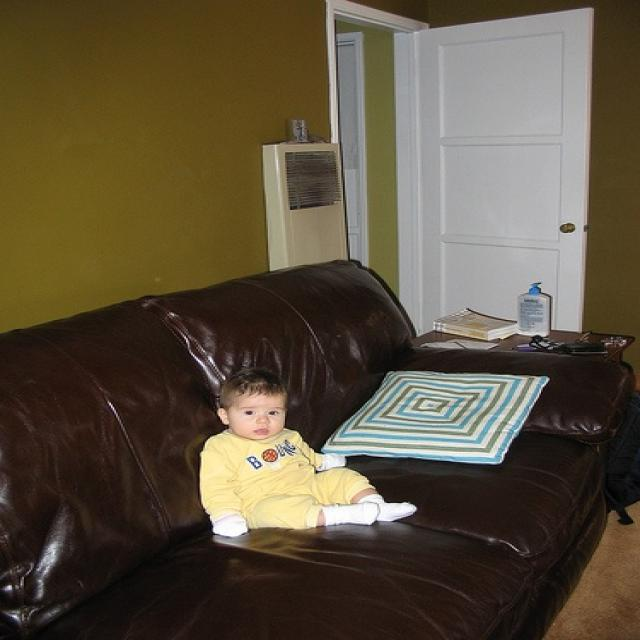sofa: (4, 260, 634, 639)
